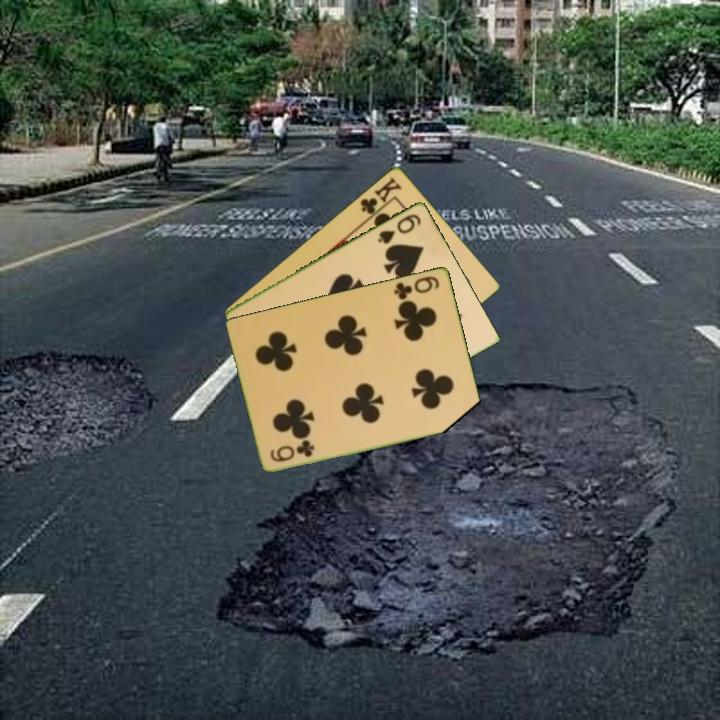6c: (391, 272, 442, 302), (267, 438, 318, 465)
6s: (374, 210, 424, 247)
Kc: (356, 173, 405, 222)
